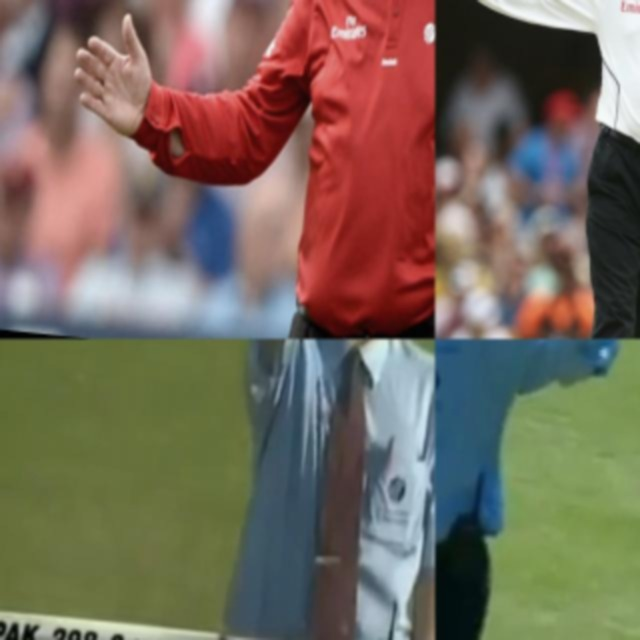No_Ball: (31, 0, 435, 339), (435, 0, 640, 339)
Out: (205, 339, 435, 640)
Wide: (435, 339, 640, 640)
